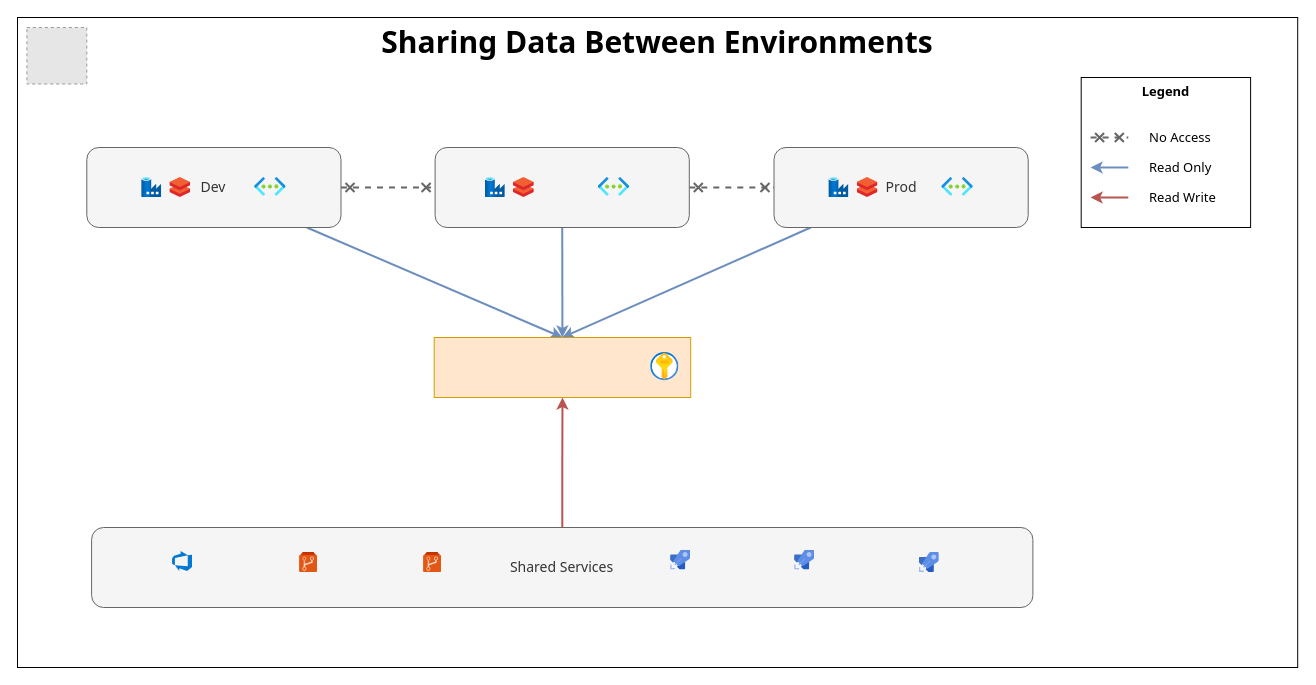
This 1316x685 diagram has some shape labels left out. Grey dashed boxes stand in for pictures. The box of each missing label's shape, as (x1, y1, x2, y2) in pixels:
Shared Parameters ( parameters store ): (433, 336, 691, 398)
Test: (434, 146, 689, 228)
